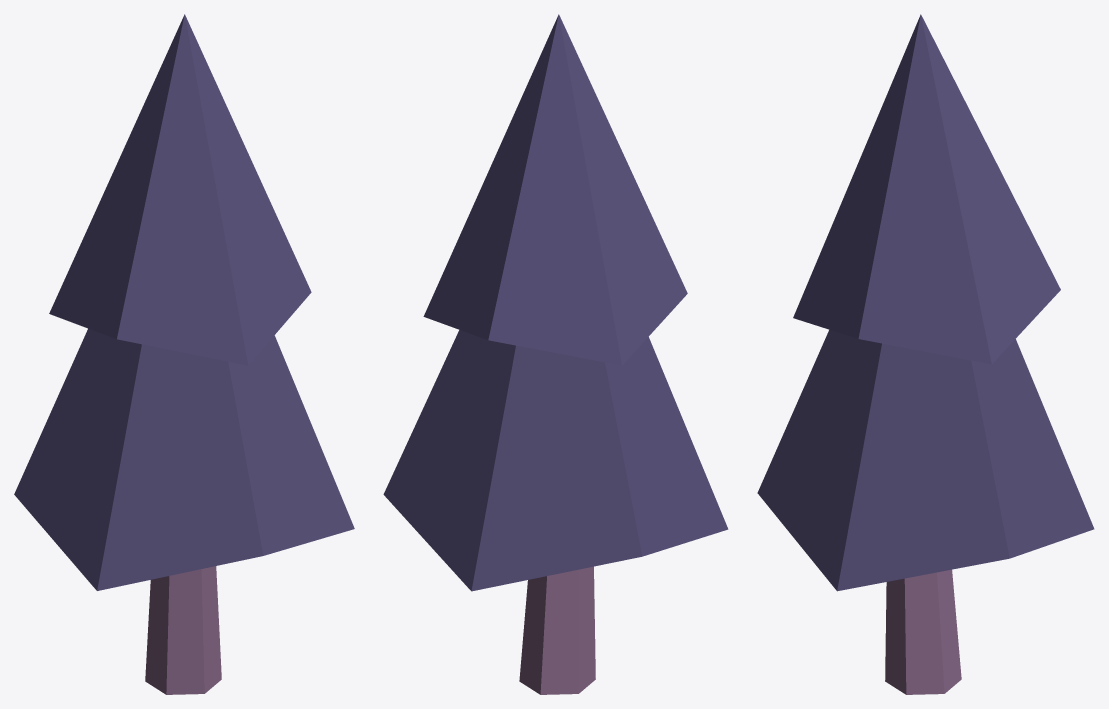
Rendered from PineTree3.fbx.
3 renders of one model, left to right at view 1: azimuth 30°, elevation 25°; view 2: azimuth 150°, elevation 25°; view 3: azimuth 270°, elevation 25°, orthographic.
Parts seen in each view (by area): view 1: pasted__pasted__pCylinder2, pasted__pCylinder3, pasted__pasted__pCylinder1; view 2: pasted__pasted__pCylinder2, pasted__pCylinder3, pasted__pasted__pCylinder1; view 3: pasted__pasted__pCylinder2, pasted__pCylinder3, pasted__pasted__pCylinder1.
Boxes of the visible parts, x1,y1,x2,y2 form: pasted__pasted__pCylinder2: (14,328,354,590); pasted__pCylinder3: (49,14,311,365); pasted__pasted__pCylinder1: (145,566,221,694); pasted__pasted__pCylinder2: (383,330,728,591); pasted__pCylinder3: (423,14,687,365); pasted__pasted__pCylinder1: (519,566,595,694); pasted__pasted__pCylinder2: (757,330,1094,591); pasted__pCylinder3: (793,14,1060,364); pasted__pasted__pCylinder1: (885,569,961,694).
Bounding box in the file's own units: 3.19 × 7.82 × 3.59.
